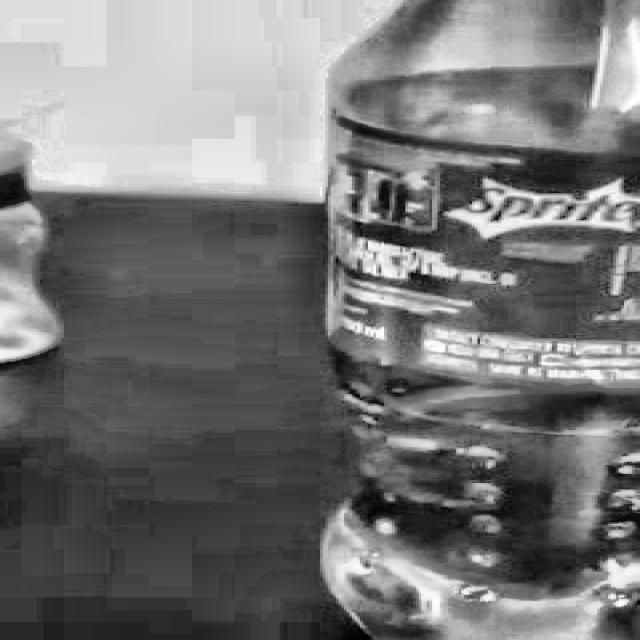bottle: (320, 0, 640, 640)
